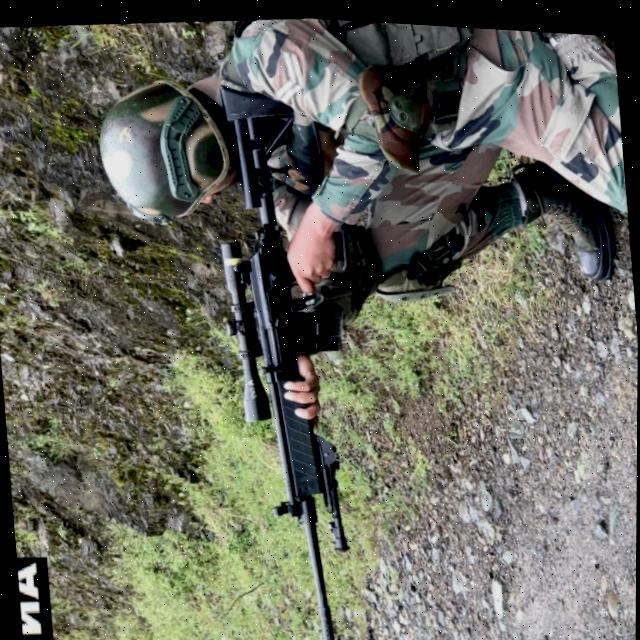firearm: (197, 70, 375, 640)
